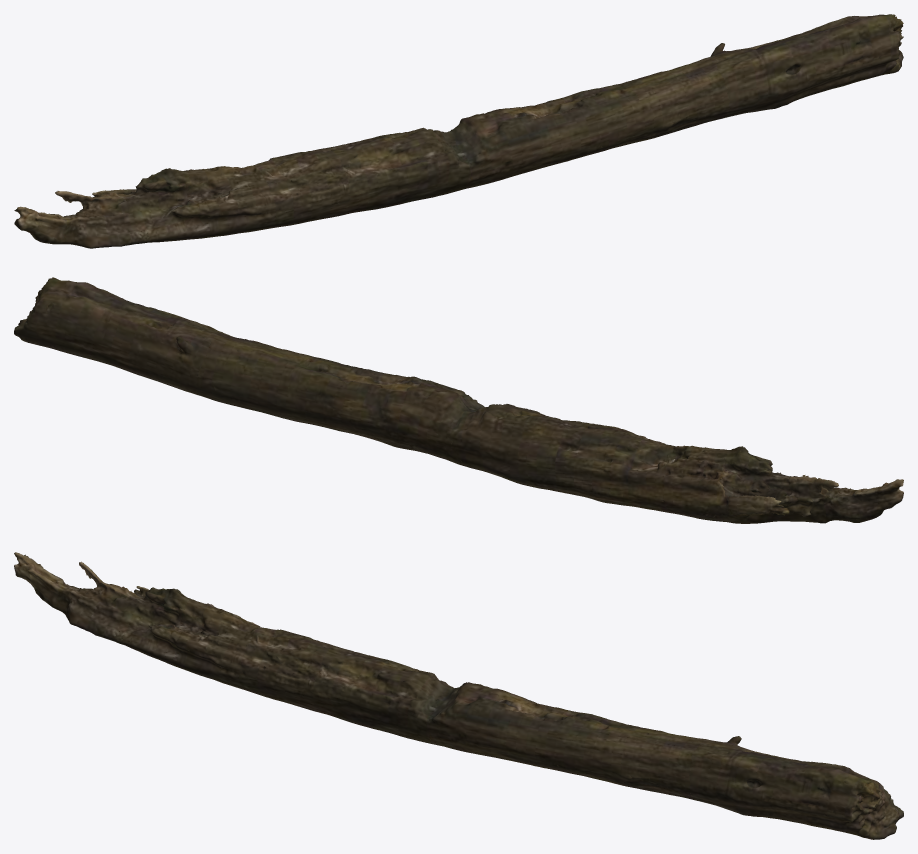
The model's file is env_dead_trunk.glb.
The picture shows the model from 3 angles, top to bottom: view 1: azimuth 30°, elevation 25°; view 2: azimuth 150°, elevation 25°; view 3: azimuth 330°, elevation 25°; orthographic projection.
Parts seen in each view (by area): view 1: ENV_dead_tree_trunk; view 2: ENV_dead_tree_trunk; view 3: ENV_dead_tree_trunk.
Part boxes in pixels (x1,y1,x2,y2): ENV_dead_tree_trunk: (14,14,903,248); ENV_dead_tree_trunk: (14,277,903,523); ENV_dead_tree_trunk: (14,552,903,839).
Bounding box in the file's own units: 23.11 × 2.2 × 2.1.
Materials: 1 (1 with a texture image).
